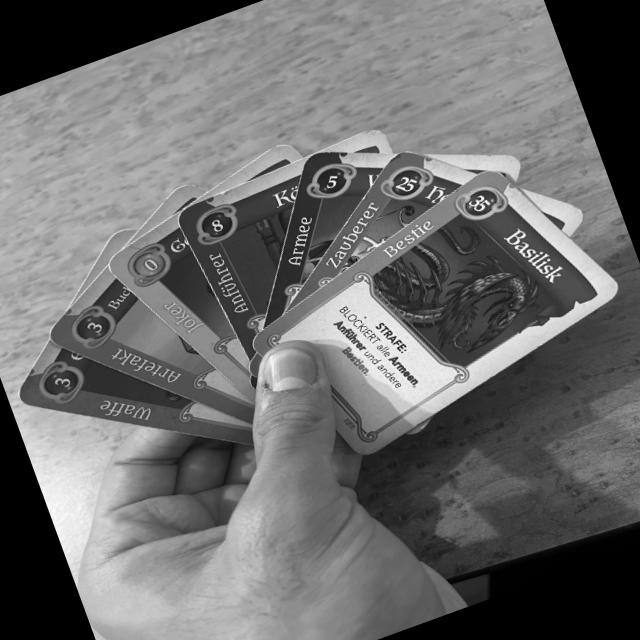Basilisk: (248, 166, 628, 460)
Book Of Changes: (44, 267, 254, 426)
Elven Longbow: (15, 342, 254, 447)
King: (170, 158, 304, 360)
Rangers: (262, 151, 397, 329)
Shapeshifter: (103, 216, 256, 403)
Warlock Lord: (288, 149, 480, 311)
